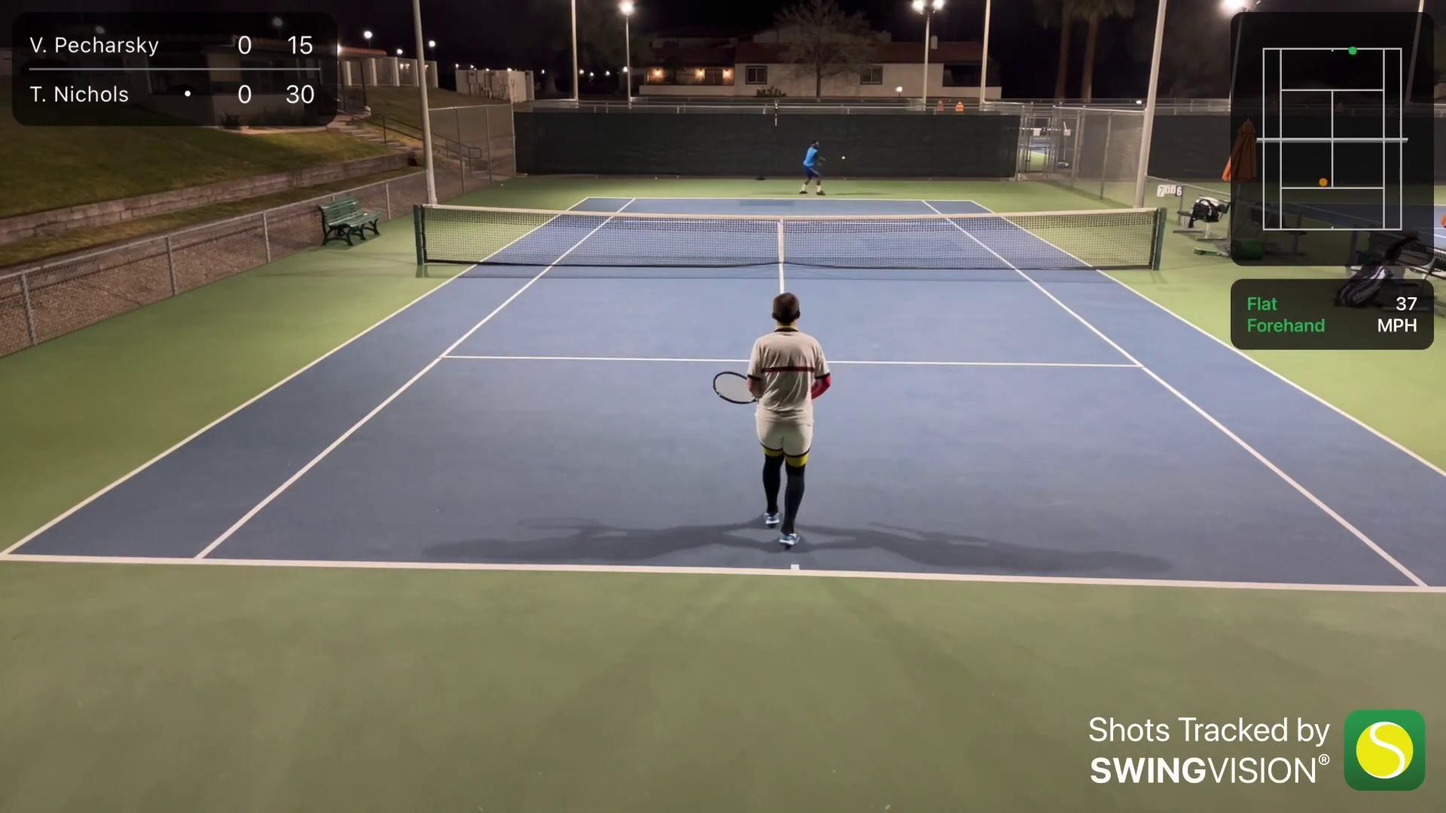ball: (840, 154, 846, 161)
